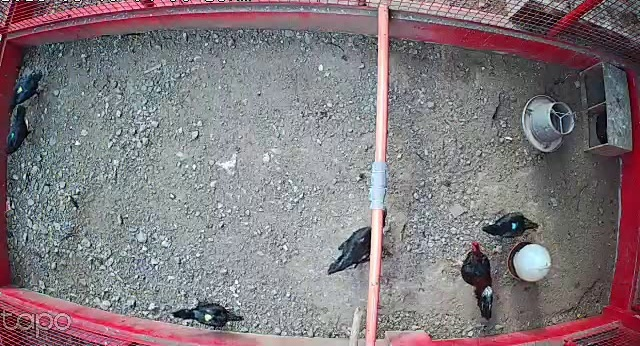Chicken: (327, 206, 393, 276), (170, 297, 249, 330), (6, 68, 50, 118), (478, 208, 540, 240), (6, 108, 33, 155)
Rooster: (451, 239, 501, 322)
Saddle_Color_Blue: (511, 220, 519, 229)
Saddle_Color_Yellow: (205, 310, 215, 322)
